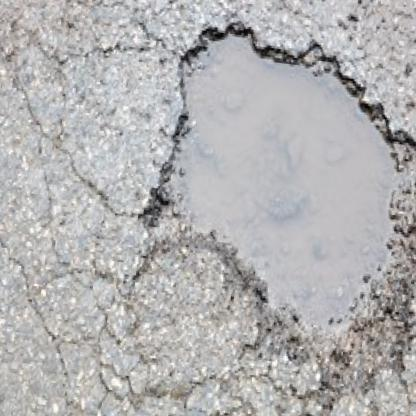pothole: (119, 12, 416, 406)
